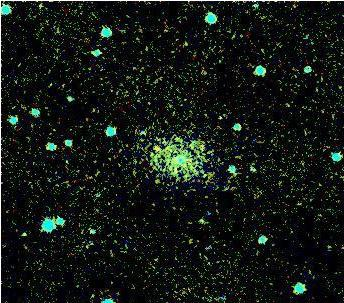star: (142, 134, 172, 164)
